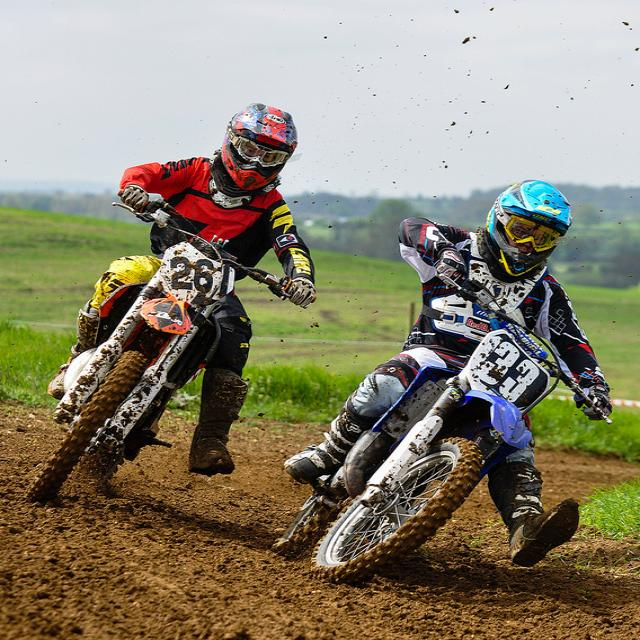motor: (306, 257, 614, 581), (16, 191, 319, 508)
